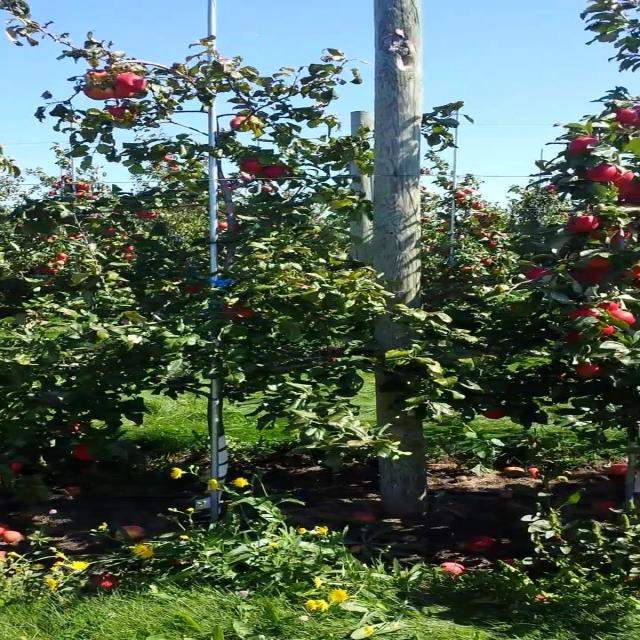apple: (589, 164, 619, 183), (596, 228, 633, 243), (113, 76, 149, 91), (568, 216, 601, 232), (604, 228, 633, 243), (568, 140, 599, 154), (575, 364, 604, 378), (84, 88, 114, 100), (241, 160, 263, 175), (618, 172, 635, 191), (227, 308, 256, 319), (568, 308, 597, 319), (611, 312, 636, 324), (575, 272, 604, 282), (113, 108, 137, 120), (113, 88, 137, 100), (262, 168, 288, 179), (525, 268, 548, 280), (77, 448, 98, 461), (618, 108, 636, 123), (618, 188, 638, 200), (589, 260, 612, 270), (92, 72, 110, 83), (483, 412, 505, 420), (234, 116, 249, 127), (568, 332, 583, 343), (604, 304, 619, 312), (70, 424, 84, 432), (604, 328, 617, 335), (42, 268, 57, 274), (632, 268, 639, 278), (220, 224, 228, 228)
